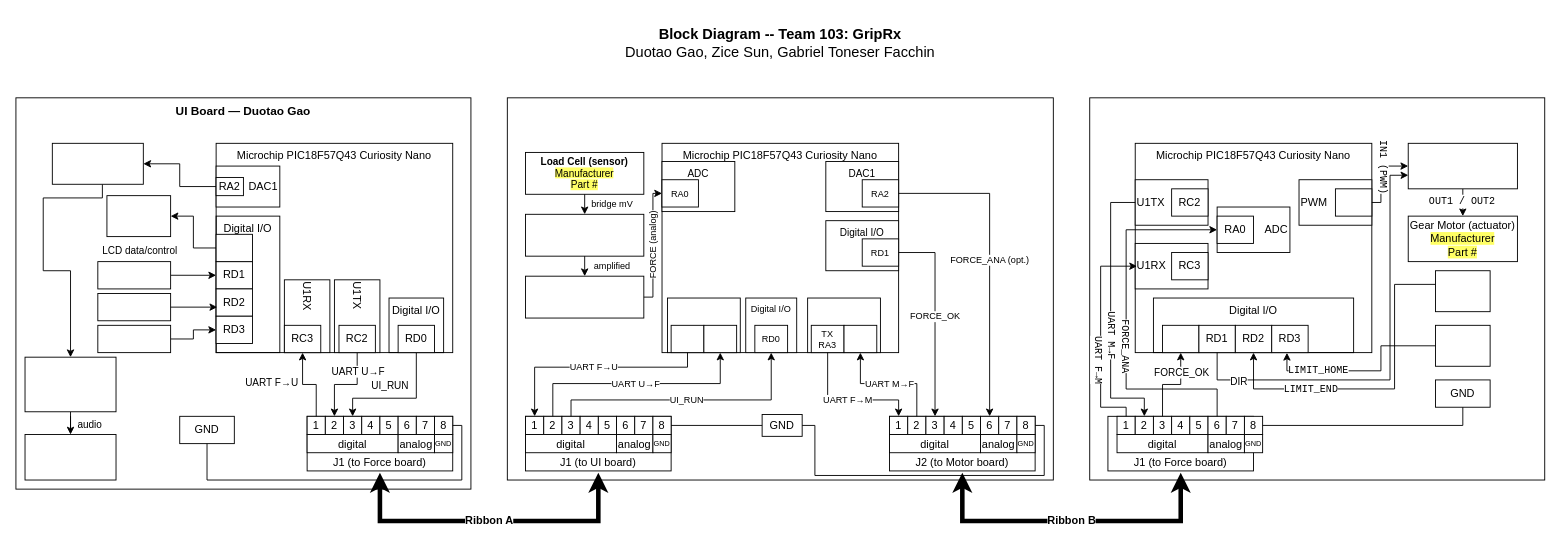
Some shapes in this 1561 by 547 pixel diagram are drawn without their labels. Here are the shapes that lost their labels. From the top down, the box of each, then its label:
(51, 142, 143, 184): LP Filter (Op Amp) Manufacturer Part #
(1407, 142, 1517, 189): H-Bridge Driver onsemi FAN8100N
(106, 195, 171, 237): Display Manufacturer Part #
(1335, 188, 1372, 216): RB3
(215, 233, 253, 262): RE0,RE1 RD4–RD7
(525, 213, 644, 256): Instrumentation Amp Texas Instruments INA125P
(97, 261, 171, 289): START/STOP
(506, 97, 1053, 480): Force Board — Zice Sun
(1089, 97, 1545, 480): Motor Board — Gabriel Toneser Facchin
(1435, 270, 1490, 312): Limit Switch (home)
(97, 293, 171, 321): UP
(525, 275, 644, 318): Active Low-Pass Filter Manufacturer Part #
(97, 324, 171, 353): DOWN
(670, 324, 704, 353): TX RC2
(667, 297, 740, 353): UART1
(703, 324, 737, 353): RX RC3
(807, 297, 880, 353): UART3
(843, 324, 877, 353): RX RA4
(1162, 324, 1199, 353): RB5
(1435, 324, 1490, 366): Limit Switch (end)
(24, 356, 116, 412): Audio Amplifier Manufacturer Part #
(24, 434, 116, 480): Speaker (actuator) Manufacturer Part #
